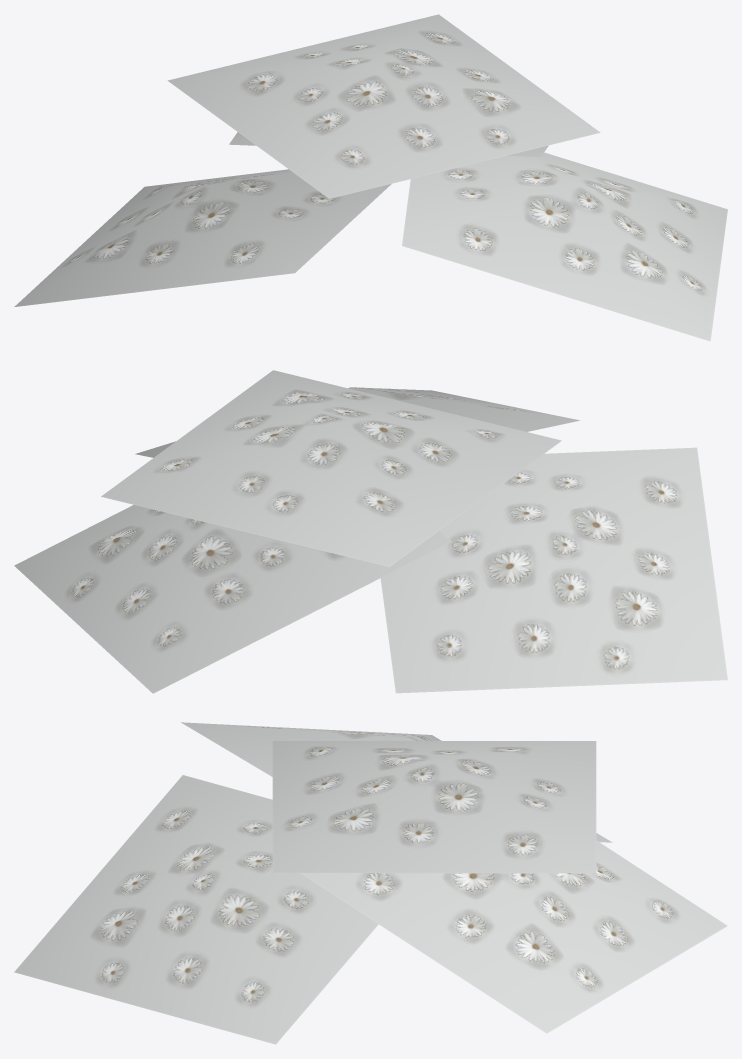
Rendered from grass_mesh_11.fbx.
The picture shows the model from 3 angles, top to bottom: view 1: azimuth 30°, elevation 25°; view 2: azimuth 150°, elevation 25°; view 3: azimuth 270°, elevation 25°; orthographic projection. The views are drawn at different scales.
Visible parts, largest first — view 1: Polygon; view 2: Polygon; view 3: Polygon.
Part boxes in pixels (x1,y1,x2,y2): Polygon: (14,14,727,341); Polygon: (14,370,727,693); Polygon: (14,722,727,1044).
Bounding box in the file's own units: 149 × 34.27 × 146.
1 material, 1 textured.
